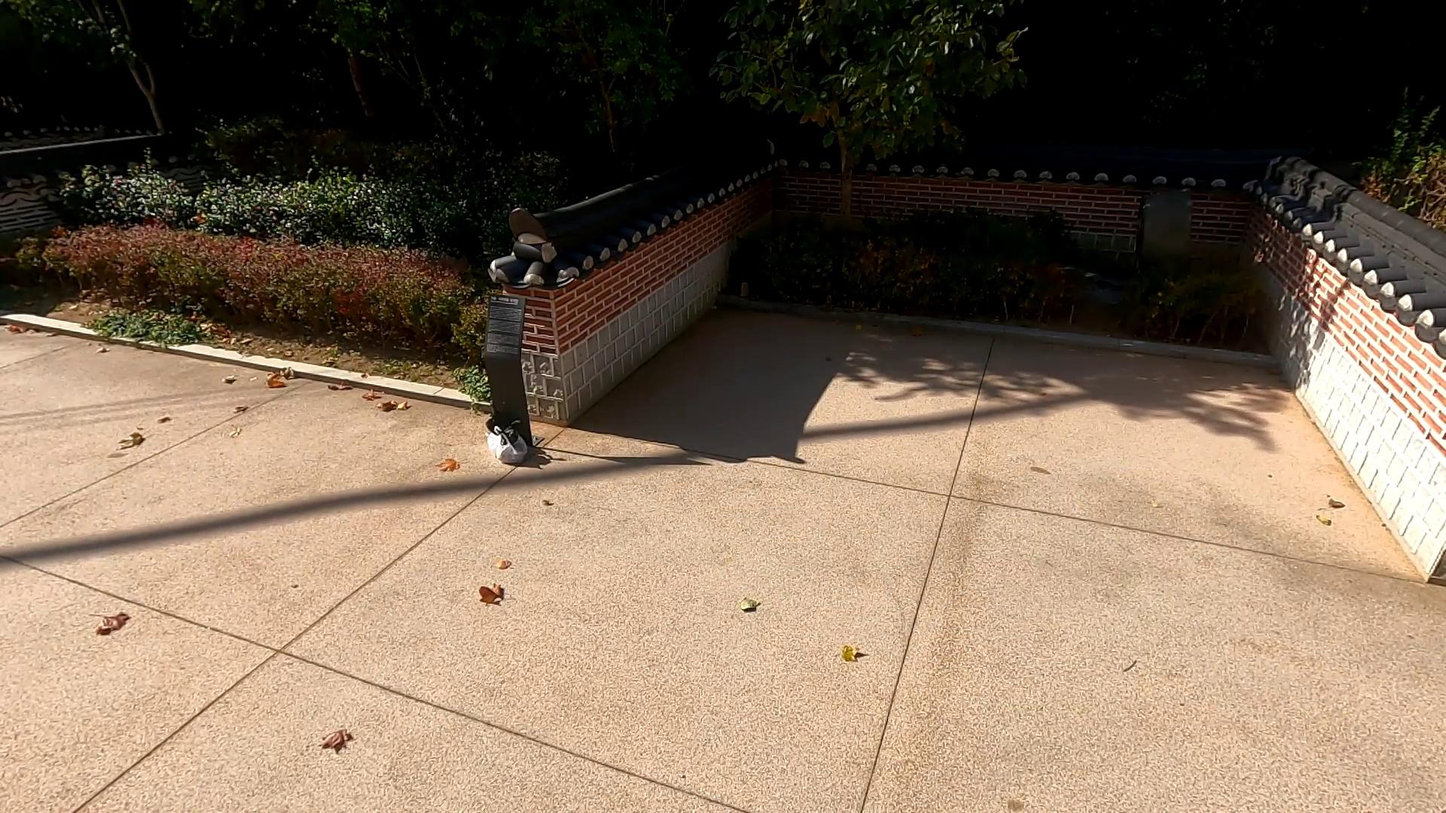trash: (482, 396, 528, 468)
